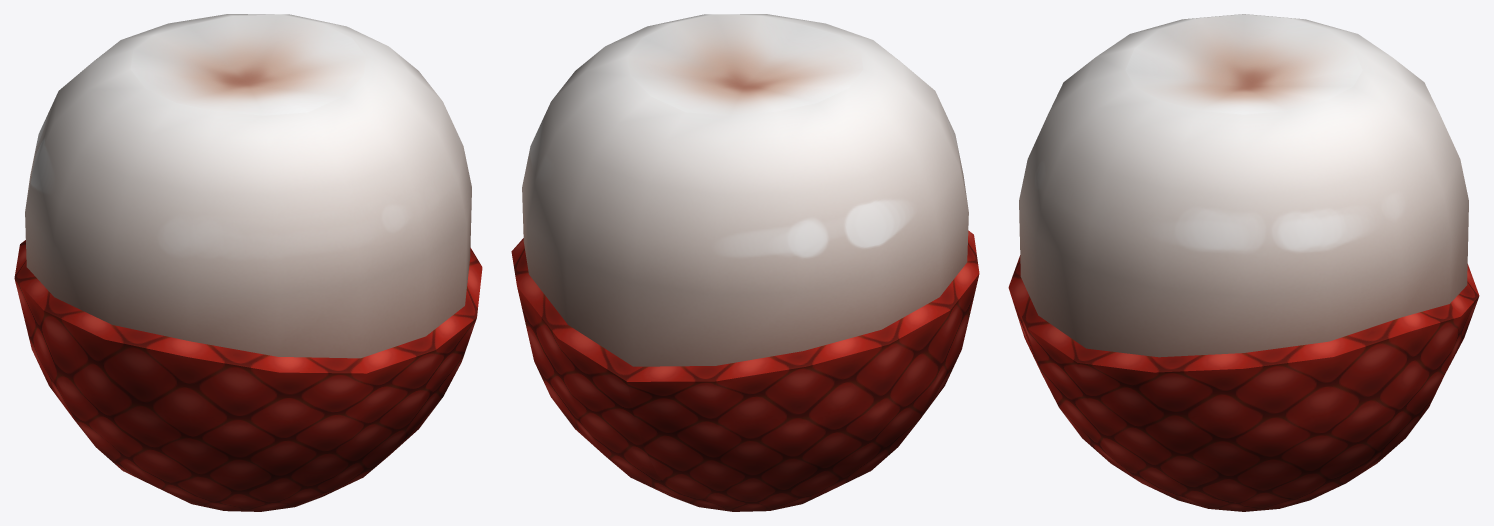
Rendered from Lychee_Peeled.fbx.
3 views of the same model, side by side, from view 1: azimuth 30°, elevation 25°; view 2: azimuth 150°, elevation 25°; view 3: azimuth 270°, elevation 25° (orthographic).
Parts seen in each view (by area): view 1: Lychee_Peeled; view 2: Lychee_Peeled; view 3: Lychee_Peeled.
Part boxes in pixels (<box>): Lychee_Peeled: <box>14,14,482,511</box>; Lychee_Peeled: <box>511,14,979,511</box>; Lychee_Peeled: <box>1008,14,1479,511</box>.
Bounding box in the file's own units: 24.42 × 24.68 × 24.42.
